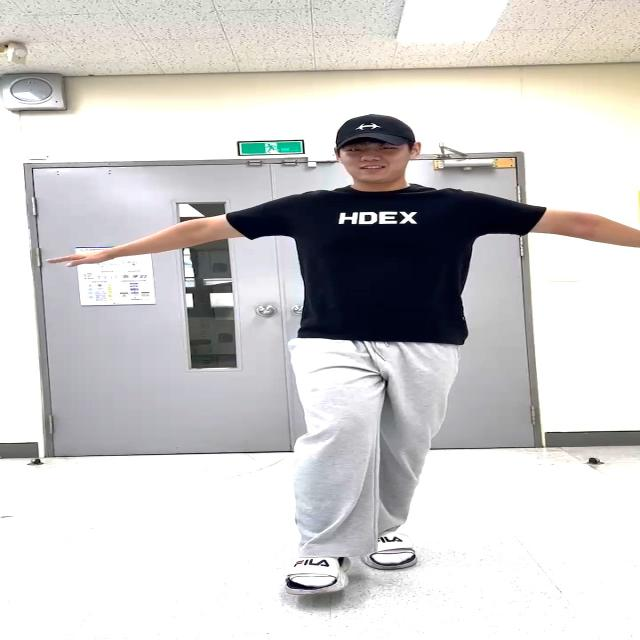leg: (288, 346, 367, 592)
